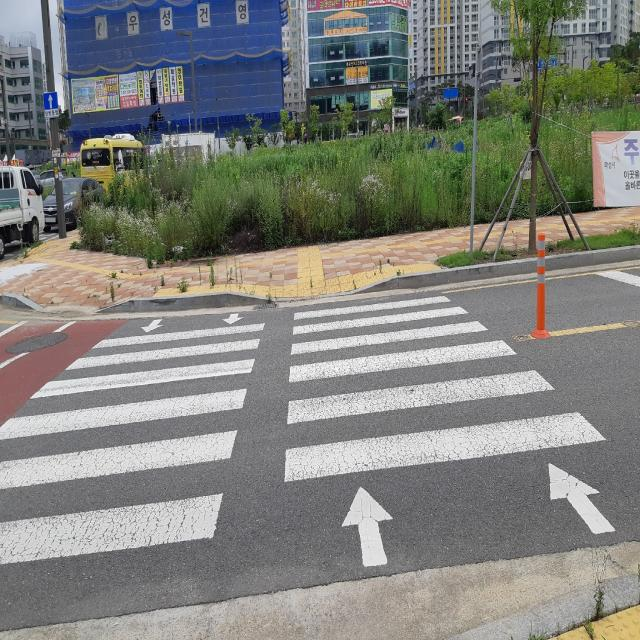횡단보도: (0, 288, 618, 574)
